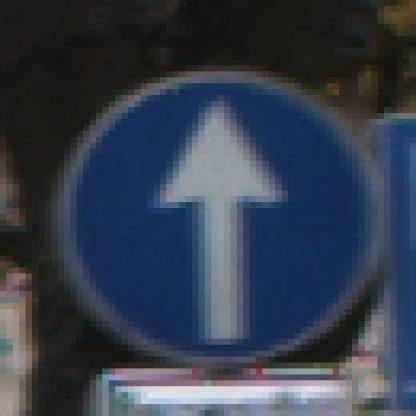AheadOnly: (39, 43, 385, 381)
